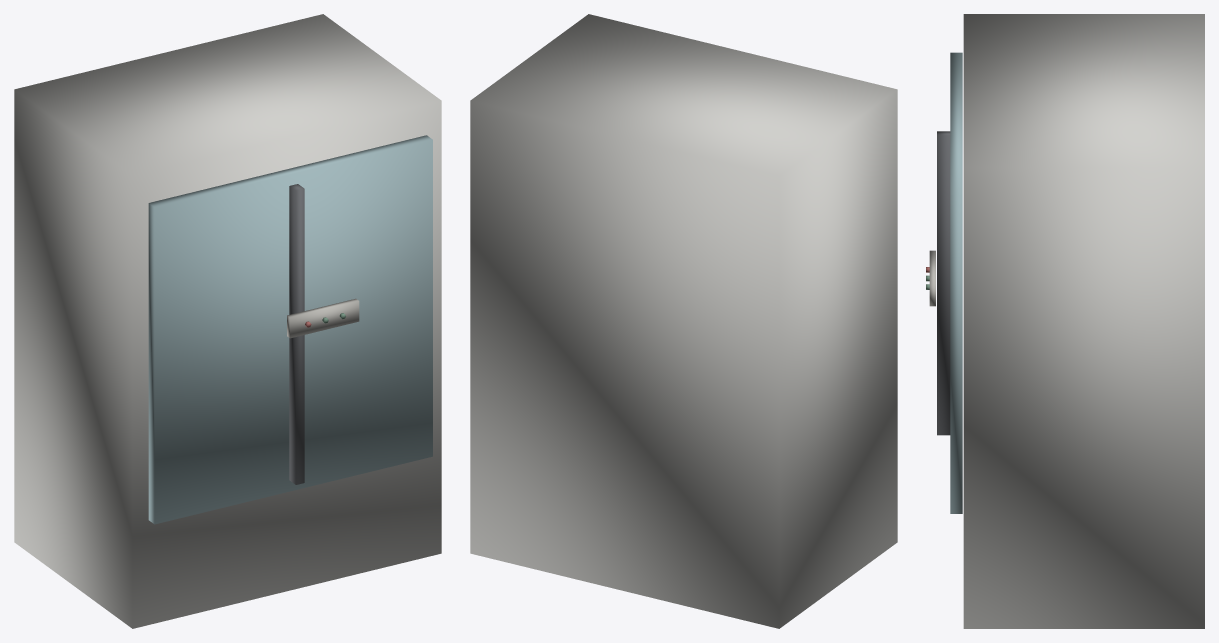
The model's file is freezer_chest__deep.glb.
3 views of the same model, side by side, from view 1: azimuth 30°, elevation 25°; view 2: azimuth 150°, elevation 25°; view 3: azimuth 270°, elevation 25° (orthographic).
Parts seen in each view (by area): view 1: world; view 2: world; view 3: world.
Boxes of the visible parts, x1=… form: world: x1=14, y1=14, x2=441, y2=628; world: x1=470, y1=14, x2=897, y2=628; world: x1=926, y1=14, x2=1204, y2=628.
Size of the model in its own units: 1.25 by 1.75 by 0.9589.
